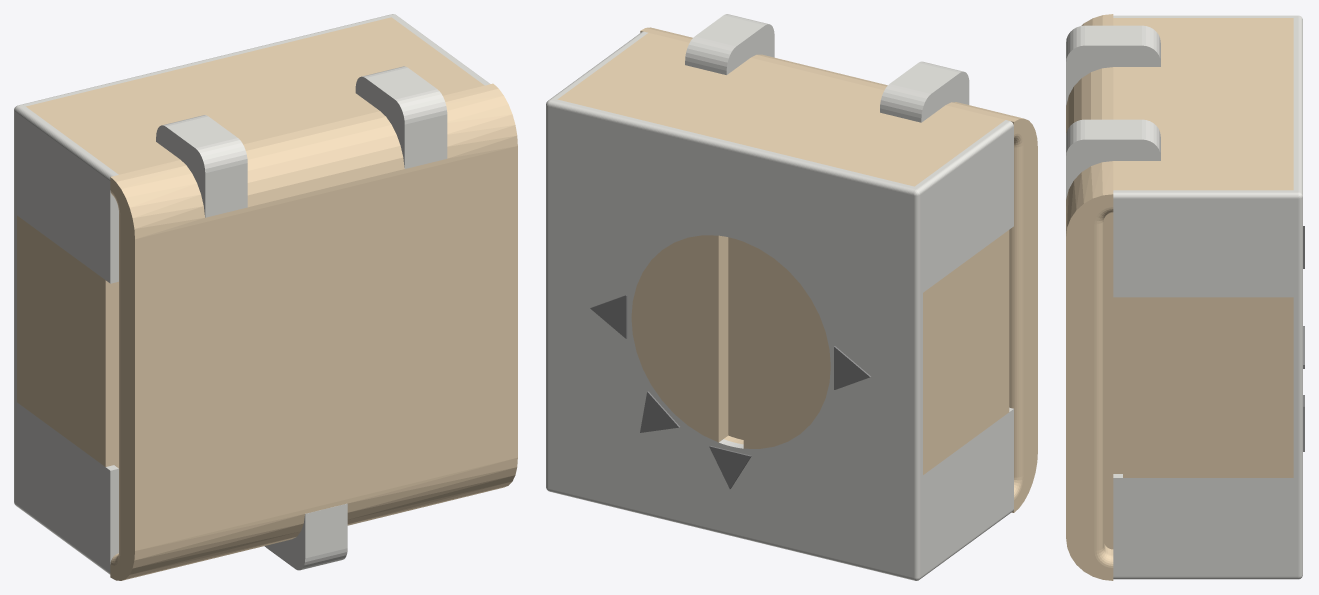
Rendered from Potentiometer_Bourns_3314J_Vertical.glb.
The picture shows the model from 3 angles, left to right: view 1: azimuth 30°, elevation 25°; view 2: azimuth 150°, elevation 25°; view 3: azimuth 270°, elevation 25°; orthographic projection. The views are drawn at different scales.
Visible parts, largest first — view 1: Shape_IndexedFaceSet.084, Shape_IndexedFaceSet.071, Shape_IndexedFaceSet.093, Shape_IndexedFaceSet.074, Shape_IndexedFaceSet.105, Shape_IndexedFaceSet.096, Shape_IndexedFaceSet.061, Shape_IndexedFaceSet.083, Shape_IndexedFaceSet.106, Shape_IndexedFaceSet.131, Shape_IndexedFaceSet.110, Shape_IndexedFaceSet.135 (+12 smaller); view 2: Shape_IndexedFaceSet.003, Shape_IndexedFaceSet.071, Shape_IndexedFaceSet.074, Shape_IndexedFaceSet.020, Shape_IndexedFaceSet.021, Shape_IndexedFaceSet.105, Shape_IndexedFaceSet.096, Shape_IndexedFaceSet.083, Shape_IndexedFaceSet.113, Shape_IndexedFaceSet.075, Shape_IndexedFaceSet.011, Shape_IndexedFaceSet.052 (+17 smaller); view 3: Shape_IndexedFaceSet.064, Shape_IndexedFaceSet.071, Shape_IndexedFaceSet.087, Shape_IndexedFaceSet.041, Shape_IndexedFaceSet.066, Shape_IndexedFaceSet.121, Shape_IndexedFaceSet.093, Shape_IndexedFaceSet.091, Shape_IndexedFaceSet.103, Shape_IndexedFaceSet.099, Shape_IndexedFaceSet.116, Shape_IndexedFaceSet.133 (+16 smaller).
Part boxes in pixels (box(x1,y1,x2,y2)): Shape_IndexedFaceSet.084: box(135, 146, 517, 550); Shape_IndexedFaceSet.071: box(26, 17, 484, 174); Shape_IndexedFaceSet.093: box(111, 83, 517, 239); Shape_IndexedFaceSet.074: box(17, 215, 105, 466); Shape_IndexedFaceSet.105: box(17, 113, 110, 283); Shape_IndexedFaceSet.096: box(17, 402, 110, 572); Shape_IndexedFaceSet.061: box(122, 457, 517, 580); Shape_IndexedFaceSet.083: box(110, 177, 134, 580); Shape_IndexedFaceSet.106: box(105, 280, 118, 468); Shape_IndexedFaceSet.131: box(404, 114, 447, 168); Shape_IndexedFaceSet.110: box(305, 503, 347, 558); Shape_IndexedFaceSet.135: box(205, 163, 247, 217); Shape_IndexedFaceSet.003: box(548, 107, 913, 576); Shape_IndexedFaceSet.071: box(557, 33, 1004, 186); Shape_IndexedFaceSet.074: box(923, 230, 1009, 474); Shape_IndexedFaceSet.020: box(743, 242, 830, 448); Shape_IndexedFaceSet.021: box(631, 235, 718, 442); Shape_IndexedFaceSet.105: box(923, 126, 1013, 292); Shape_IndexedFaceSet.096: box(923, 409, 1013, 574); Shape_IndexedFaceSet.083: box(1014, 118, 1037, 512); Shape_IndexedFaceSet.113: box(1010, 145, 1023, 477); Shape_IndexedFaceSet.075: box(728, 237, 743, 439); Shape_IndexedFaceSet.011: box(552, 101, 911, 194); Shape_IndexedFaceSet.052: box(718, 235, 728, 442); Shape_IndexedFaceSet.064: box(1123, 297, 1293, 477); Shape_IndexedFaceSet.071: box(1113, 18, 1293, 190); Shape_IndexedFaceSet.087: box(1113, 198, 1293, 297); Shape_IndexedFaceSet.041: box(1113, 478, 1293, 576); Shape_IndexedFaceSet.066: box(1066, 194, 1113, 580); Shape_IndexedFaceSet.121: box(1104, 212, 1122, 549); Shape_IndexedFaceSet.093: box(1066, 14, 1113, 235); Shape_IndexedFaceSet.091: box(1094, 221, 1103, 550); Shape_IndexedFaceSet.103: box(1066, 45, 1160, 105); Shape_IndexedFaceSet.099: box(1066, 139, 1160, 199); Shape_IndexedFaceSet.116: box(1113, 192, 1293, 198); Shape_IndexedFaceSet.133: box(1085, 119, 1141, 139).
Bounding box in the file's own units: 1.77 × 1.97 × 0.9921.
